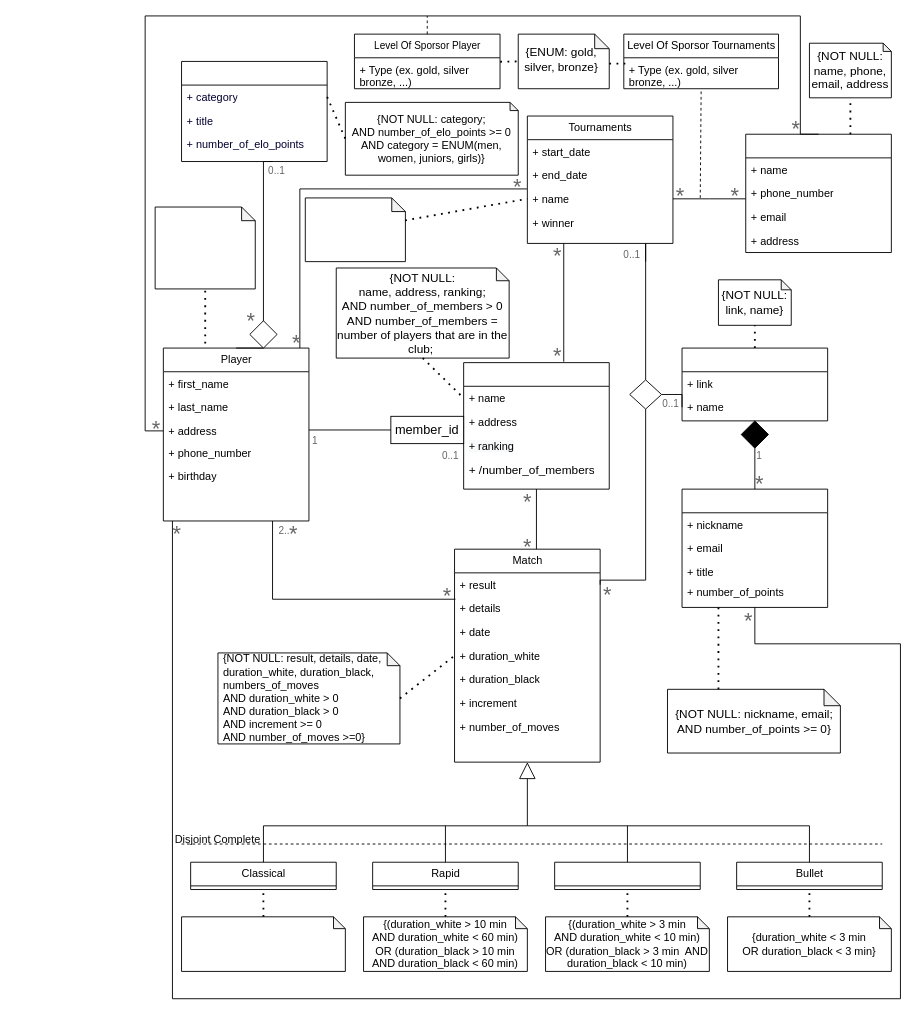
This 917x1016 diagram has some shape labels left out. Here are the shapes that lost their labels. From the top down, the box of each, then its label:
(181, 61, 327, 162): FIDE Ranking
(745, 133, 891, 253): Sponsors
(154, 206, 255, 289): {NOT NULL: first_name, last_name, adress, phone_number, birthday}
(304, 197, 405, 262): {NOT NULL: start_date, end_date, name}
(681, 347, 828, 421): Website
(463, 362, 609, 489): Chess Club
(681, 488, 828, 607): Account
(554, 861, 700, 890): Blitz
(181, 916, 345, 971): {duration_white > 60 min OR duration_black > 60 min
